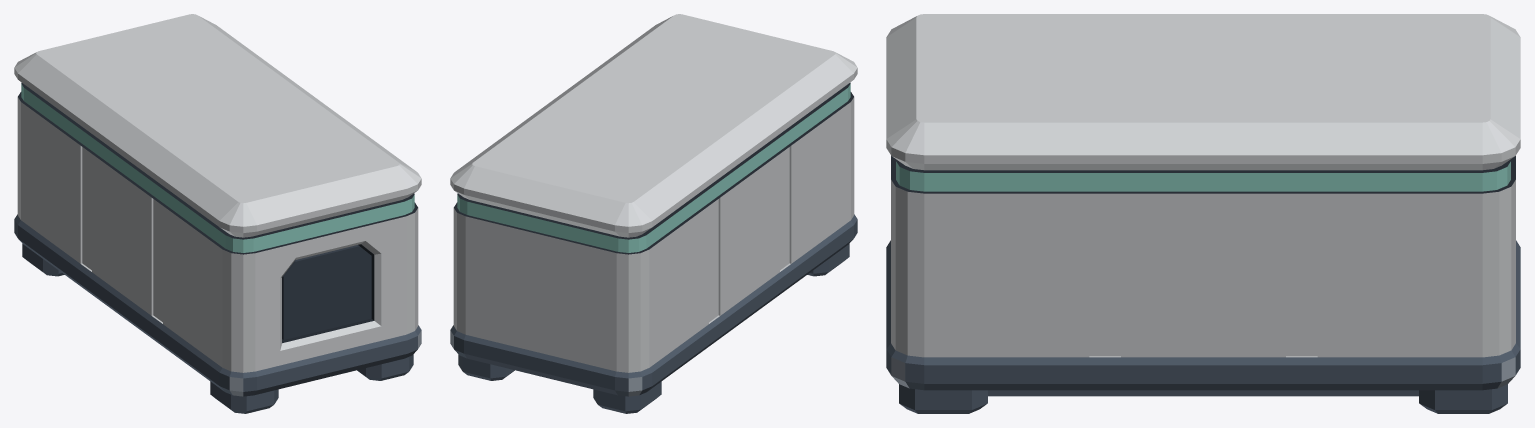
The model's file is modular-freight-container-412fd5.glb.
The picture shows the model from 3 angles, left to right: view 1: azimuth 30°, elevation 25°; view 2: azimuth 150°, elevation 25°; view 3: azimuth 270°, elevation 25°; orthographic projection. The views are drawn at different scales.
Visible parts, largest first — view 1: pod-body, door-leaf; view 2: pod-body; view 3: pod-body.
Part boxes in pixels (x1,y1,x2,y2): pod-body: (14,14,421,413); door-leaf: (282,245,371,339); pod-body: (450,14,857,413); pod-body: (886,14,1520,413).
Bounding box in the file's own units: 2 × 2 × 4.
